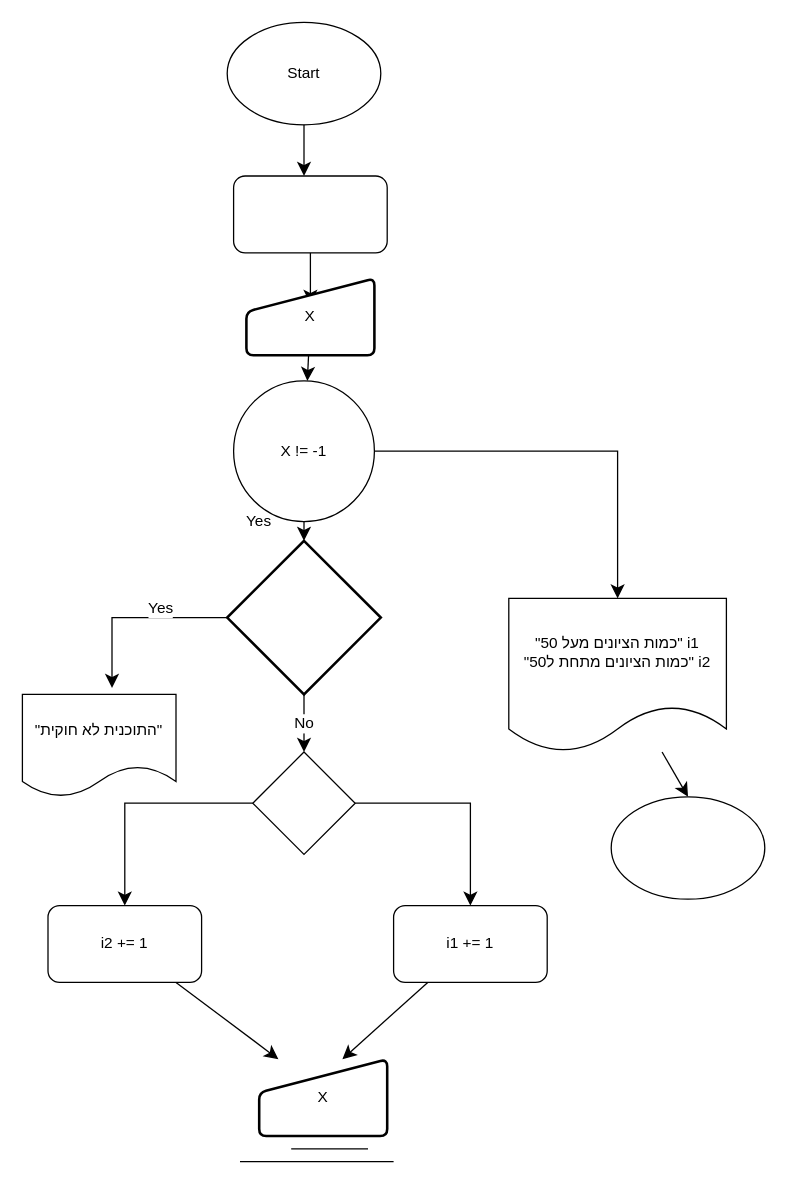
Some shapes in this 787 by 1185 pixel diagram are drawn without their labels. The centre of each missing label's shape, as x and y in pixels:
"i1 = 0 i2 = 0" goes at point (309, 214).
"Stop" goes at point (687, 847).
"X == 50 Or X < -1 Or x > 100" goes at point (303, 617).
"X > 50" goes at point (303, 802).
